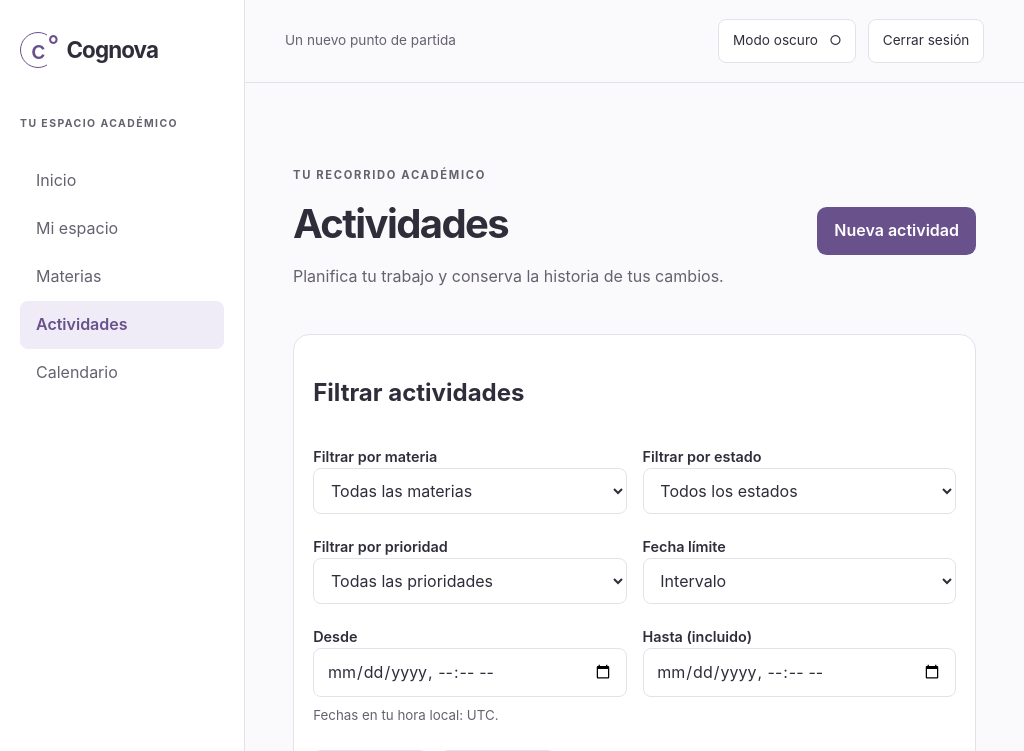
it: Activities authenticated views › loads empty state and creates with an archived own subject
This screenshot has width=1024, height=751.
Click the link "Nueva actividad": coordinates (897, 231) [817,206,976,255]
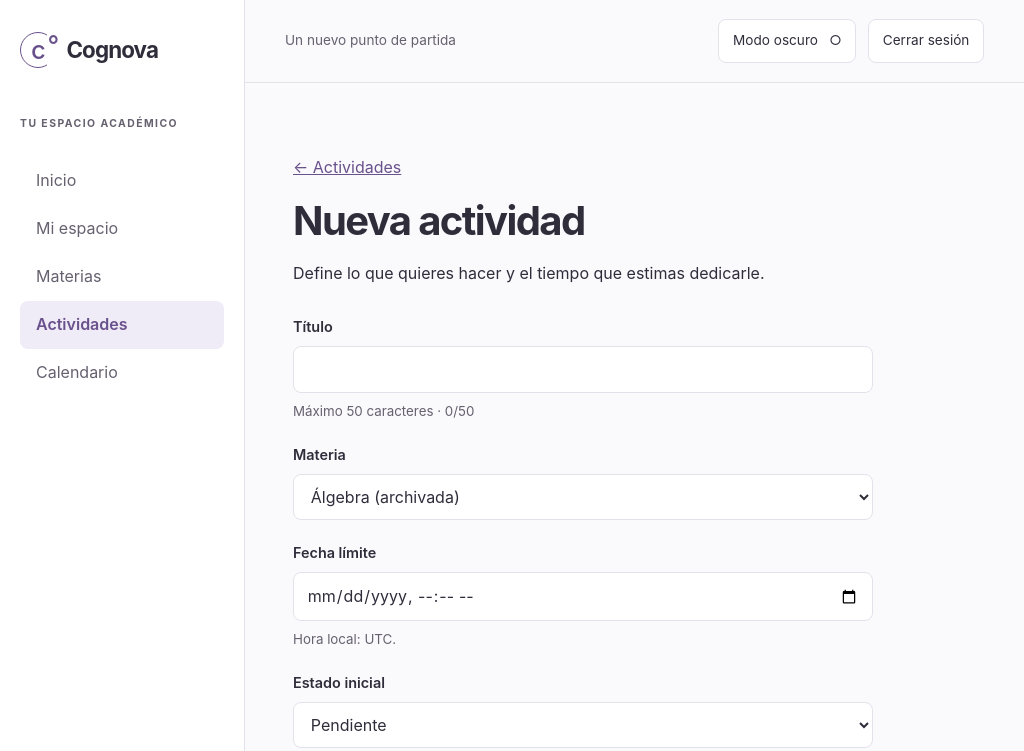
Expected: the field labelled "Título" is shown
In the field labelled "Título": coordinates (583, 370) [293,346,873,393], type "  Leer ensayo  "
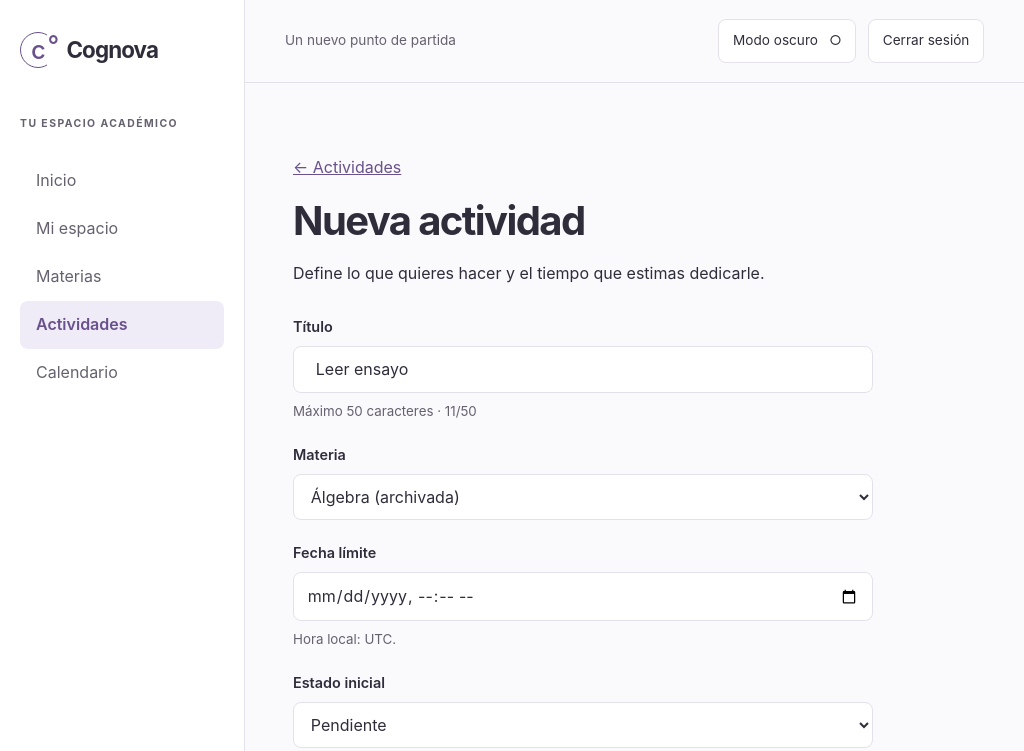
In the field labelled "Fecha límite": coordinates (583, 597) [293,572,873,621], type "2030-01-01T12:00"
(page scrolled)
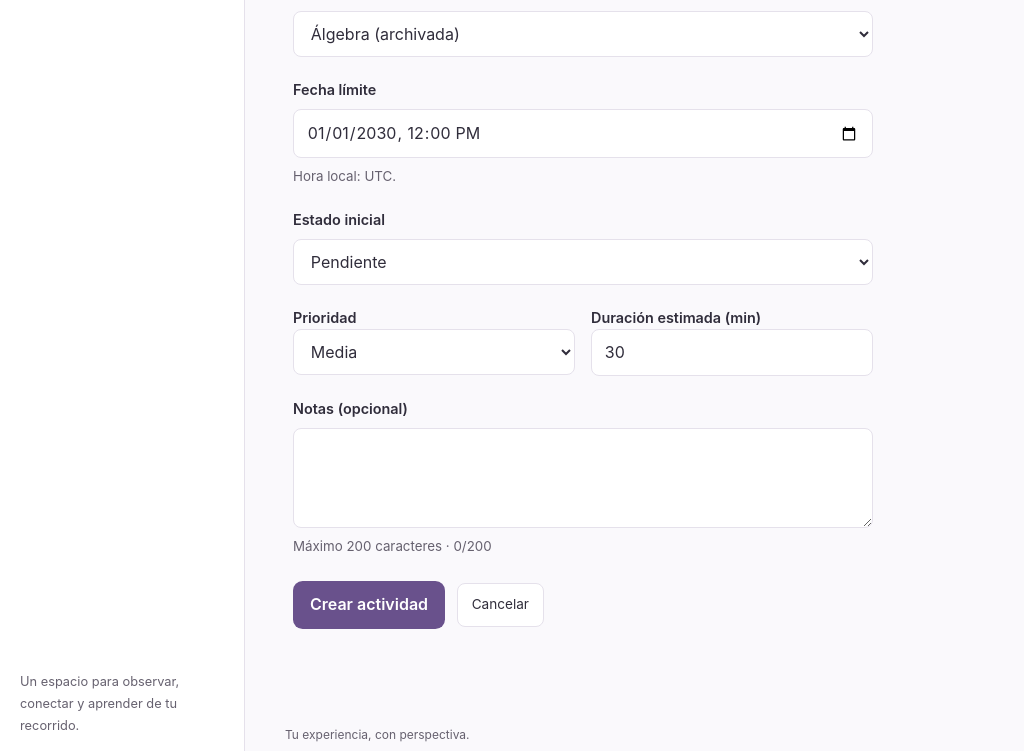
Click the button "Crear actividad": coordinates (369, 605) [293,581,445,629]
(page scrolled)
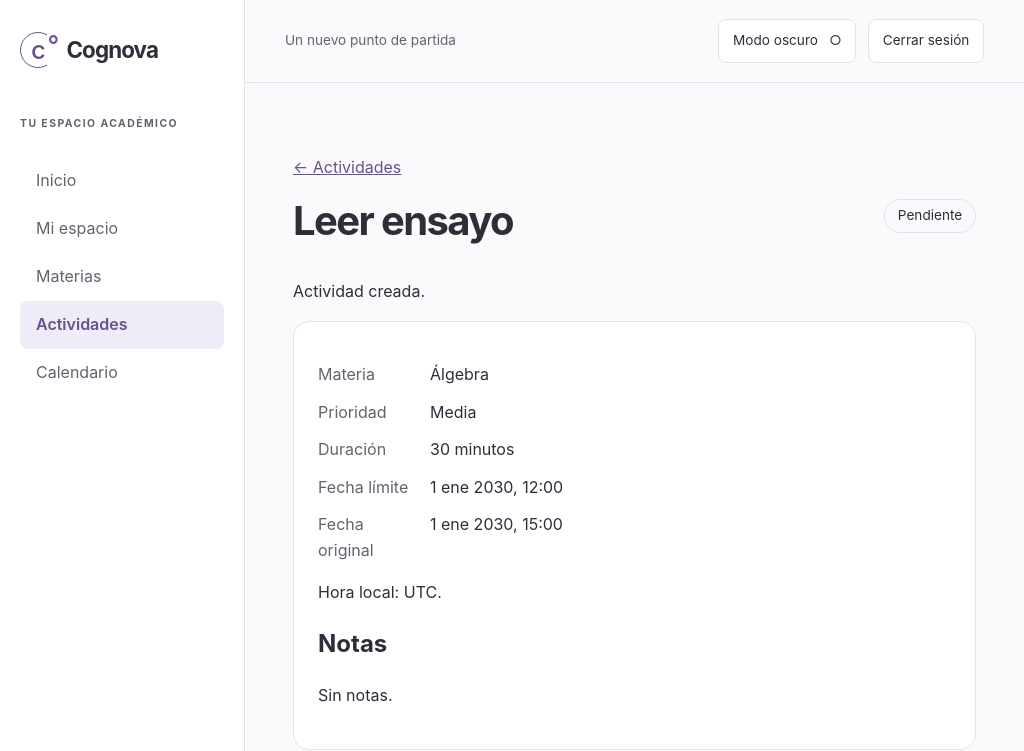
Expected: the heading "Leer ensayo" is shown, [293,197,513,245]
Expected: the text "Actividad creada." is shown, [293,281,425,301]
